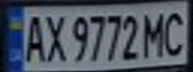2: (121, 10, 142, 62)
7: (103, 11, 124, 62), (87, 11, 106, 62)
9: (66, 11, 90, 63)
A: (18, 11, 48, 63)
C: (160, 6, 193, 57)
M: (139, 8, 172, 60)
X: (42, 11, 69, 63)
